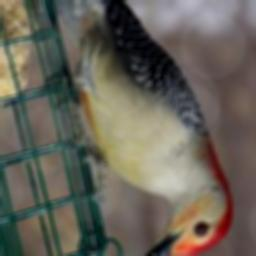Woodpecker: (52, 0, 231, 256)
